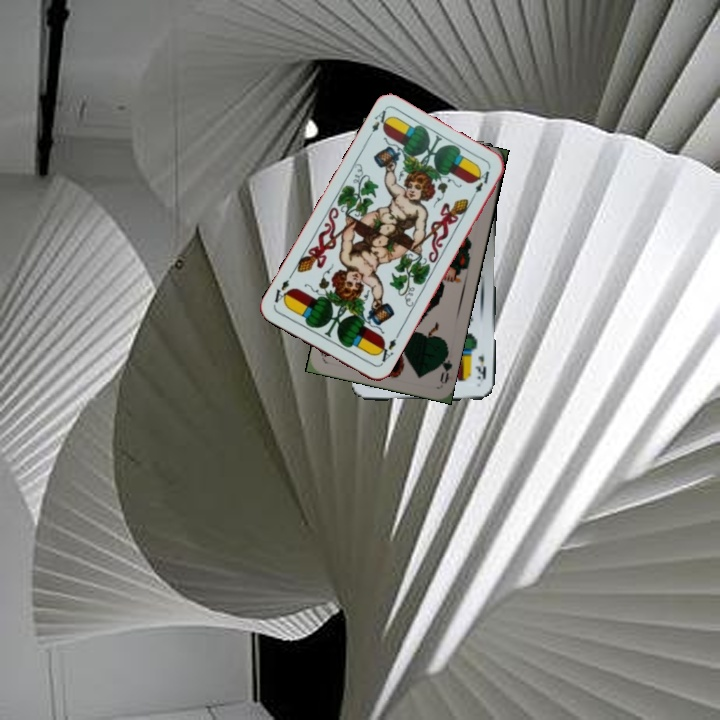EA: (363, 106, 393, 143), (372, 335, 399, 368)
EK: (472, 352, 489, 382)
GO: (434, 345, 455, 386)
